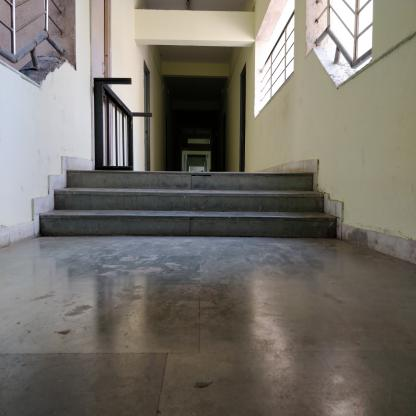stairs: (65, 170, 314, 243)
